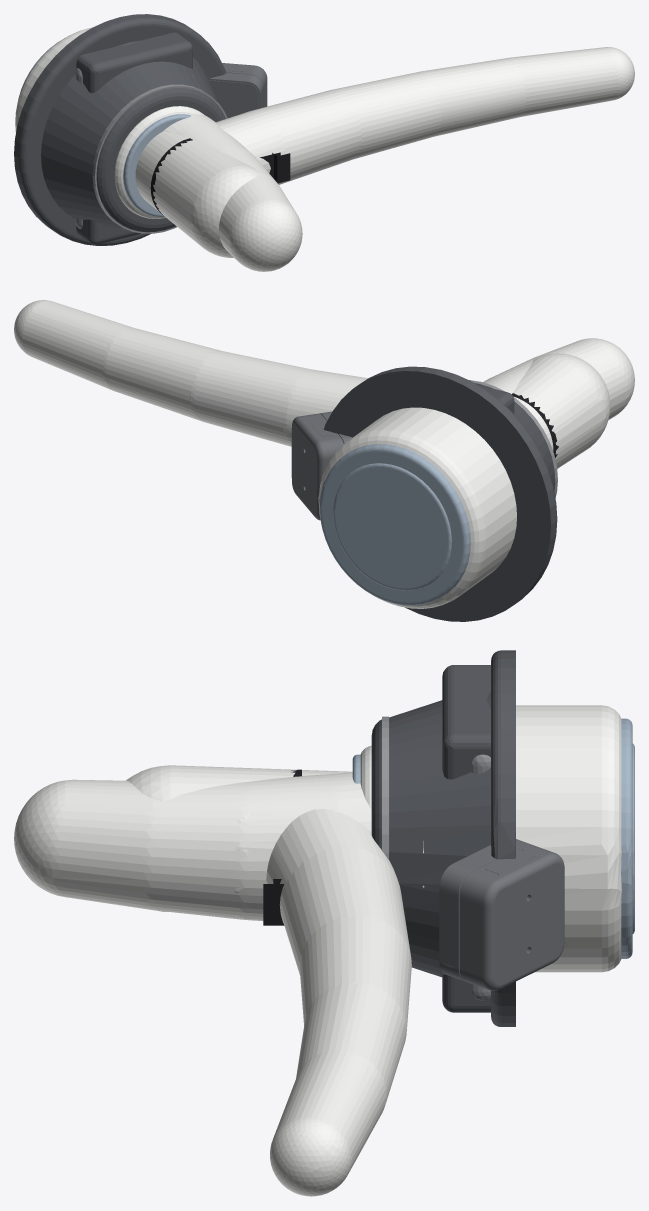
The model's file is arm.glb.
3 renders of one model, top to bottom at view 1: azimuth 30°, elevation 25°; view 2: azimuth 150°, elevation 25°; view 3: azimuth 270°, elevation 25°, orthographic. The views are drawn at different scales.
Parts seen in each view (by area): view 1: b5, b1, b2, b3, b10, b8; view 2: b3, b5, b1, b4, b2, b10; view 3: b3, b5, b1, b10, b2, b8.
Boxes of the visible parts, <box> form: b5: <box>216,47,634,184</box>; b1: <box>14,14,227,245</box>; b2: <box>114,106,258,257</box>; b3: <box>15,27,302,271</box>; b10: <box>75,32,267,244</box>; b8: <box>150,138,290,215</box>; b3: <box>318,338,634,608</box>; b5: <box>14,300,367,446</box>; b1: <box>323,366,557,621</box>; b4: <box>333,463,451,590</box>; b2: <box>513,353,610,468</box>; b10: <box>291,385,514,600</box>; b3: <box>14,705,632,972</box>; b5: <box>266,809,411,1196</box>; b1: <box>371,650,515,1026</box>; b10: <box>439,665,564,1012</box>; b2: <box>126,745,371,911</box>; b8: <box>263,769,301,925</box>.
Bounding box in the file's own units: 0.3392 × 0.1307 × 0.2153.
